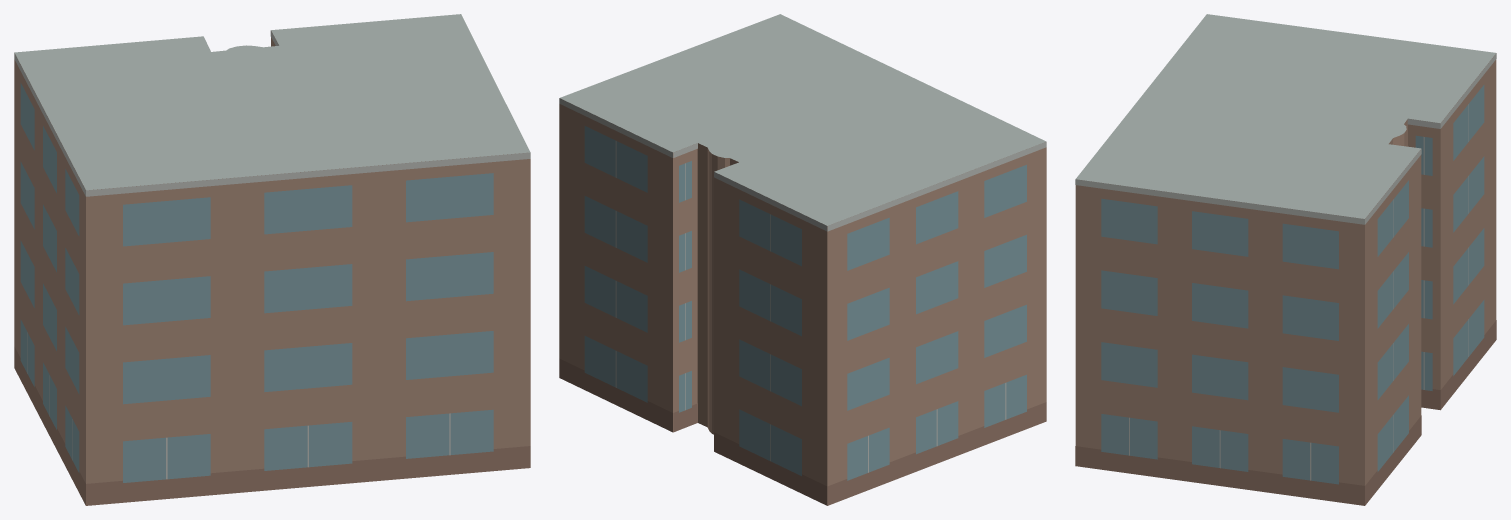
Rendered from survey-upis-32808442.glb.
3 renders of one model, left to right at view 1: azimuth 30°, elevation 25°; view 2: azimuth 150°, elevation 25°; view 3: azimuth 270°, elevation 25°, orthographic. The views are drawn at different scales.
Parts seen in each view (by area): view 1: survey-upis-32808442.tmp; view 2: survey-upis-32808442.tmp; view 3: survey-upis-32808442.tmp.
Boxes of the visible parts, <box> form: survey-upis-32808442.tmp: <box>14,14,530,505</box>; survey-upis-32808442.tmp: <box>559,14,1046,505</box>; survey-upis-32808442.tmp: <box>1075,14,1496,505</box>.
Size of the model in its own units: 18.4 by 12 by 15.97.
